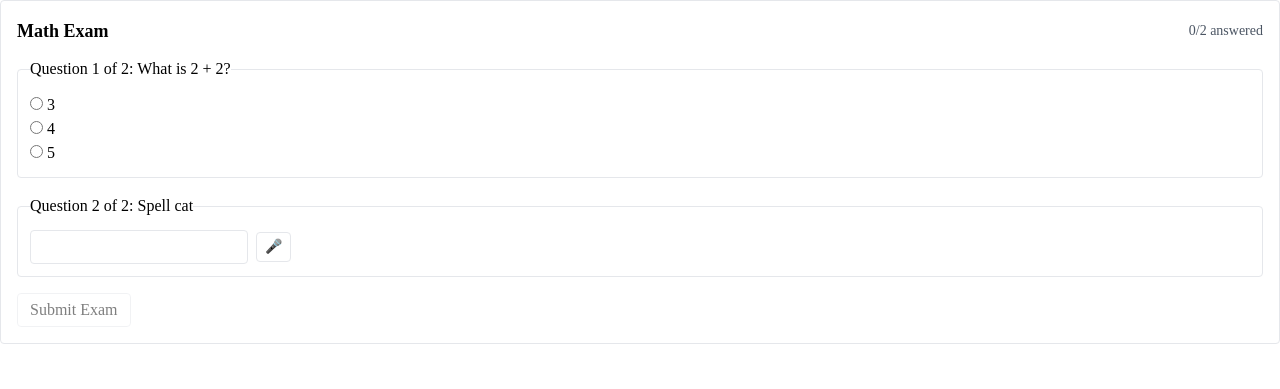
Test: Exam › lets the child retry the exam after grading
Click the radio button labelled "4". click: (36, 128)
box: [30,121,43,134]
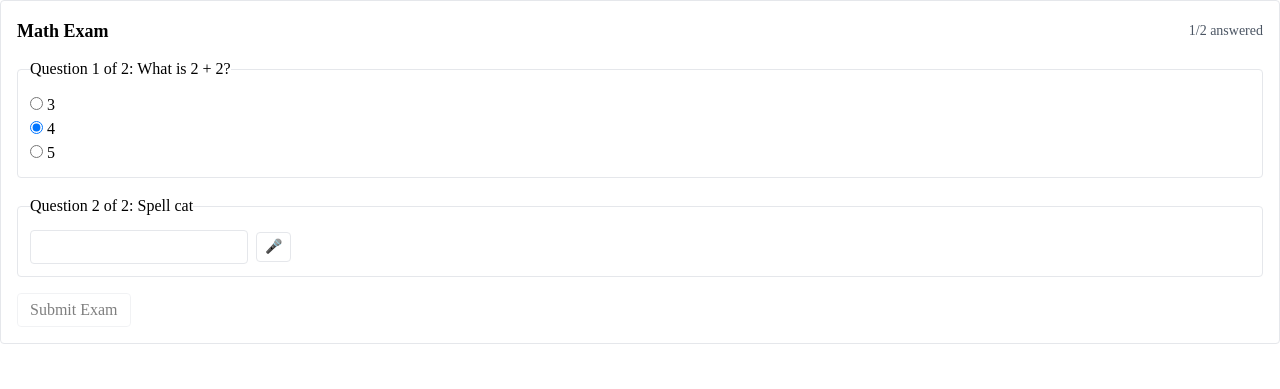
Type "cat" into the field named "Spell cat". click: (139, 247)
box: [30,230,248,264]
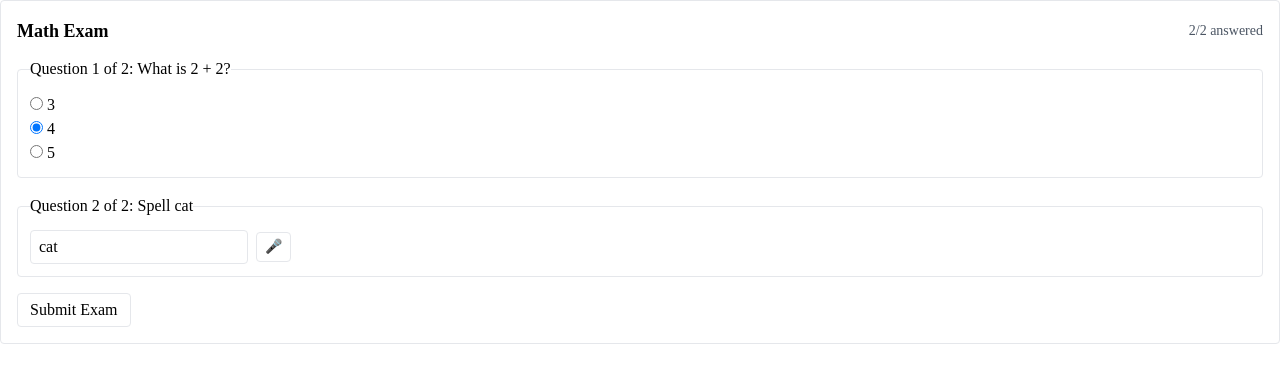
Click the button "Submit Exam". click: (74, 310)
box: [17,293,131,327]
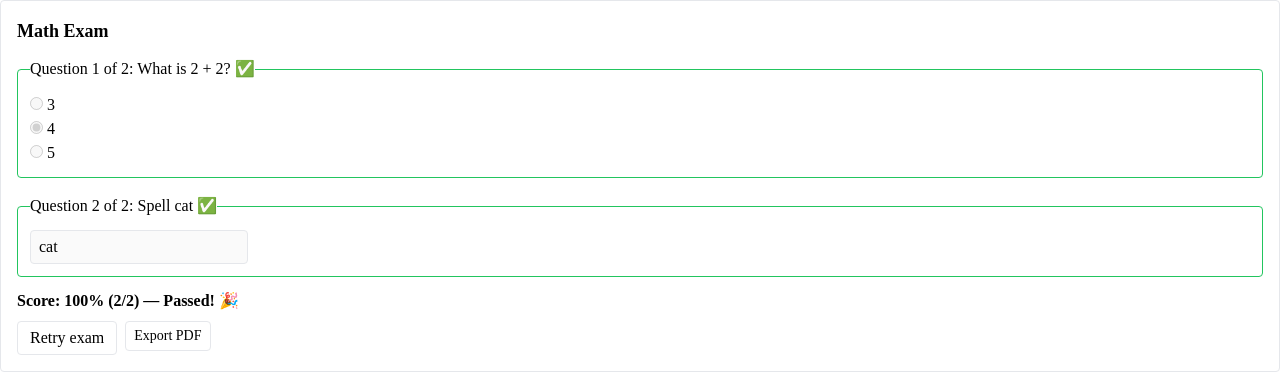
Check: the text "Score: 100% (2/2) — Passed! 🎉" is shown, box [17,292,239,309]
Click the button "Retry exam". click: (67, 338)
box: [17,321,117,355]
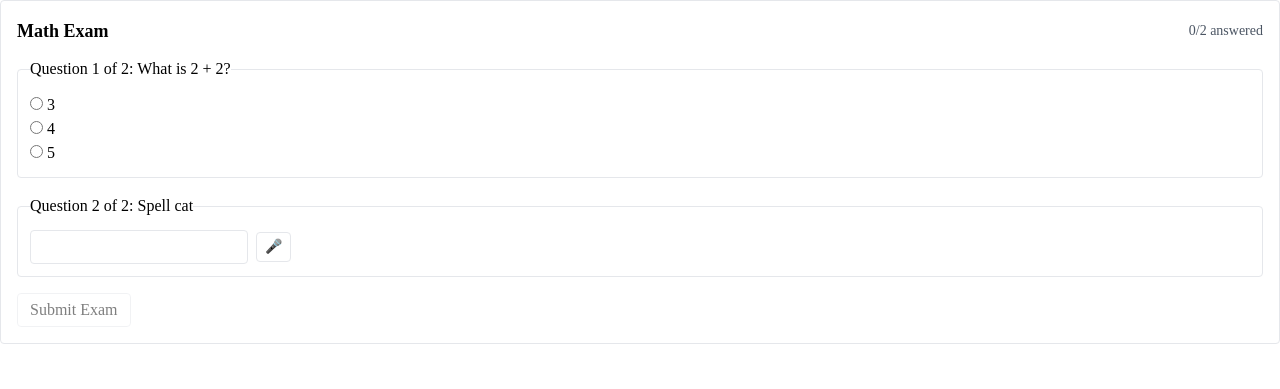
Check: the text "Passed" is gone
Check: the button "Submit Exam" is disabled, box [17,293,131,327]
